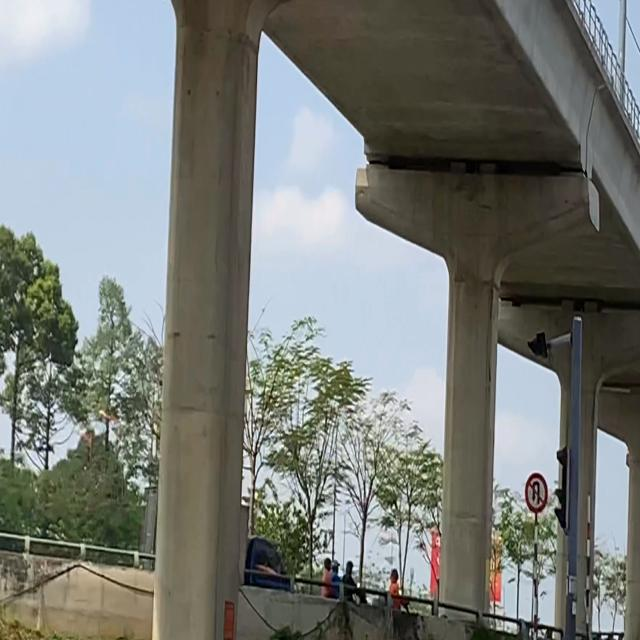Cam quay dau xe: (524, 472, 548, 515)
